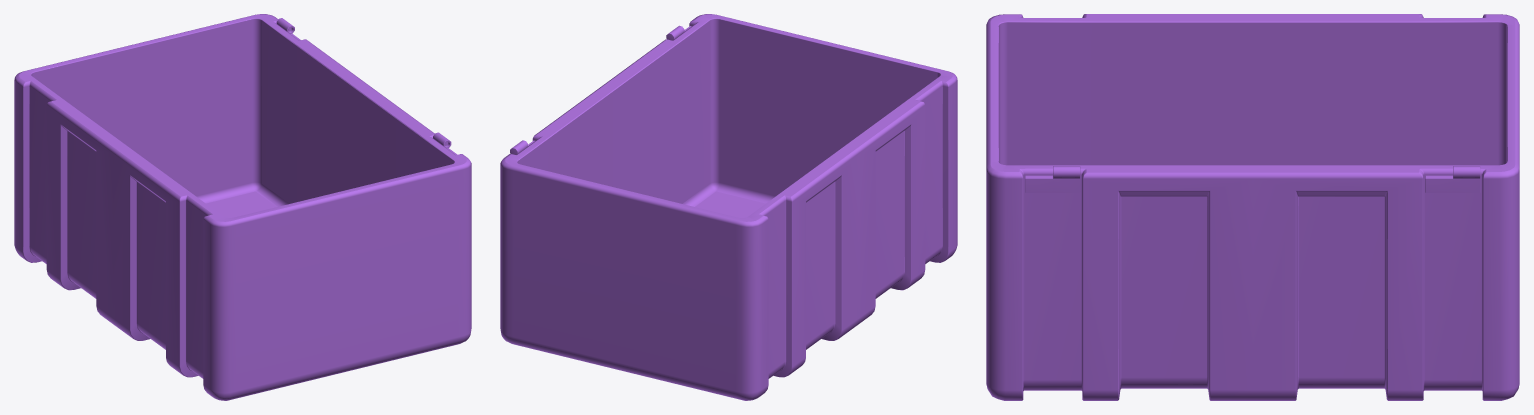
3 views of the same model, side by side, from view 1: azimuth 30°, elevation 25°; view 2: azimuth 150°, elevation 25°; view 3: azimuth 270°, elevation 25° (orthographic). The views are drawn at different scales.
Parts seen in each view (by area): view 1: SM_Box01_part01; view 2: SM_Box01_part01; view 3: SM_Box01_part01.
Part boxes in pixels (left/top/right/bottom): SM_Box01_part01: left=14, top=14, right=471, bottom=400; SM_Box01_part01: left=500, top=14, right=957, bottom=400; SM_Box01_part01: left=986, top=14, right=1519, bottom=400.
Bounding box in the file's own units: 134 × 91.93 × 187.
